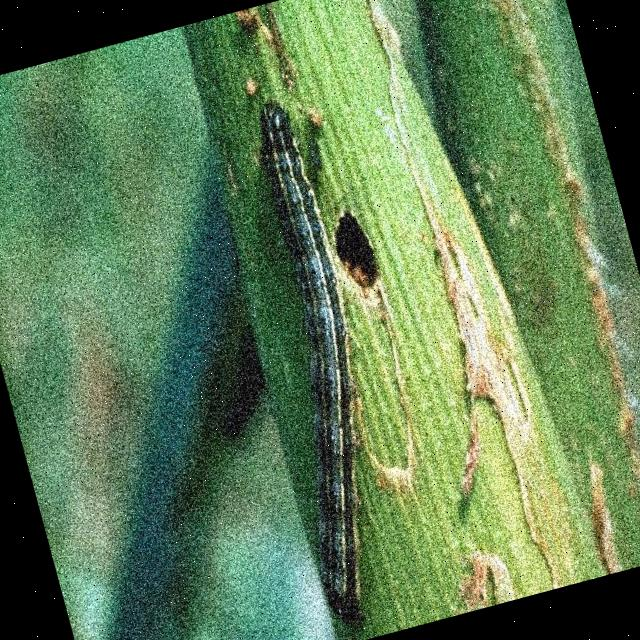worm: (199, 96, 431, 632)
